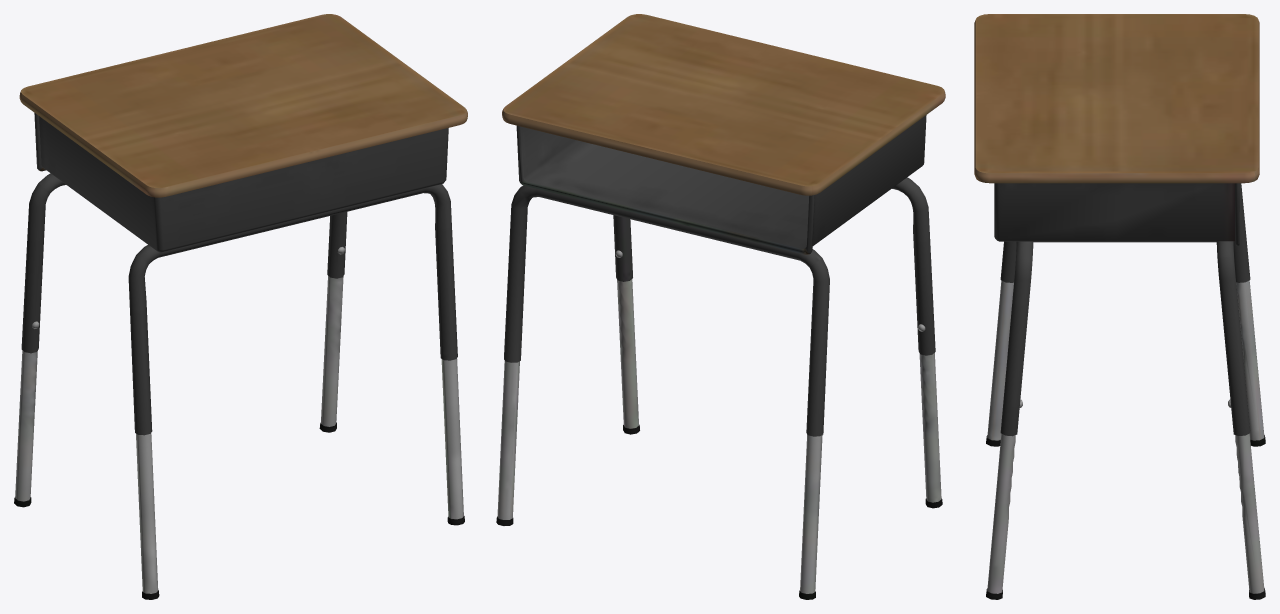
File: cc0_school_desk.glb
3 renders of one model, left to right at view 1: azimuth 30°, elevation 25°; view 2: azimuth 150°, elevation 25°; view 3: azimuth 270°, elevation 25°, orthographic. The views are drawn at different scales.
Visible parts, largest first — view 1: SchoolDesk_01; view 2: SchoolDesk_01; view 3: SchoolDesk_01.
Boxes of the visible parts, bbox=[...] form: SchoolDesk_01: bbox=[14, 14, 467, 599]; SchoolDesk_01: bbox=[496, 14, 945, 599]; SchoolDesk_01: bbox=[974, 14, 1265, 599].
Size of the model in its own units: 0.7118 by 0.8826 by 0.546.
1 material, 1 textured.
